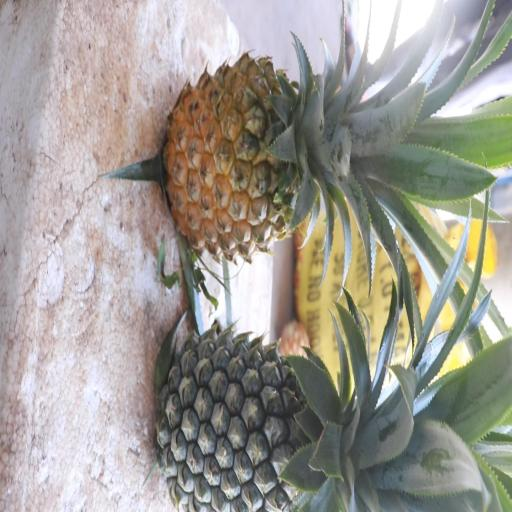Pineapple - v8 v1: (161, 49, 437, 272)
